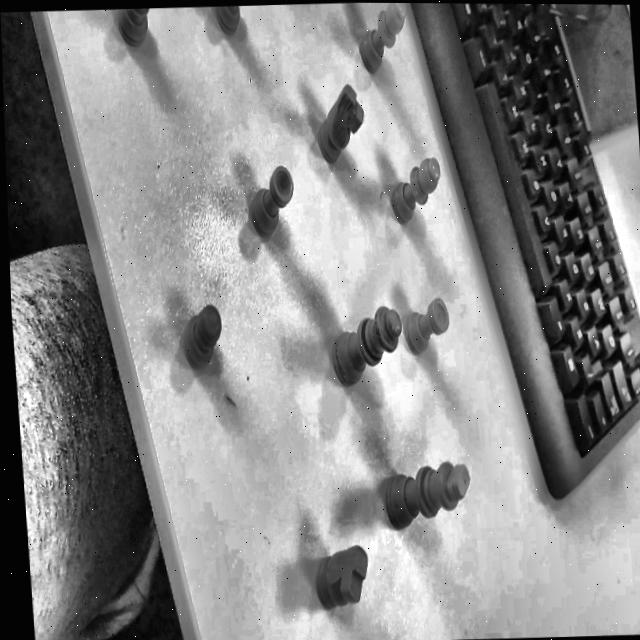white-bishop: (376, 143, 446, 230), (358, 3, 419, 81)
white-king: (375, 424, 492, 552)
white-knight: (310, 68, 373, 166), (307, 536, 374, 627)
white-pawn: (161, 270, 231, 374)
white-queen: (320, 289, 404, 386)
white-rook: (234, 143, 304, 256), (400, 294, 458, 357)
